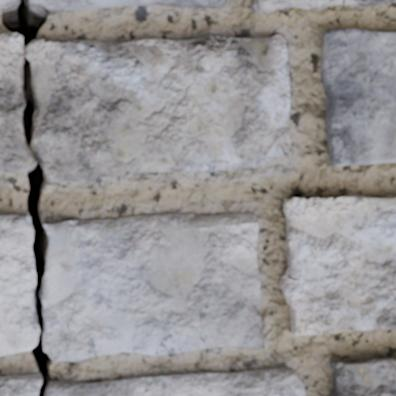brick: (280, 193, 395, 335), (321, 29, 395, 166), (330, 356, 395, 395), (251, 0, 395, 12)
broken_brick: (26, 32, 292, 184), (44, 212, 264, 362), (49, 366, 306, 395), (0, 214, 38, 356), (0, 32, 34, 174), (31, 0, 227, 12), (0, 372, 41, 395), (0, 0, 13, 8)
crack: (0, 0, 63, 395), (245, 346, 263, 350), (297, 196, 310, 199)
